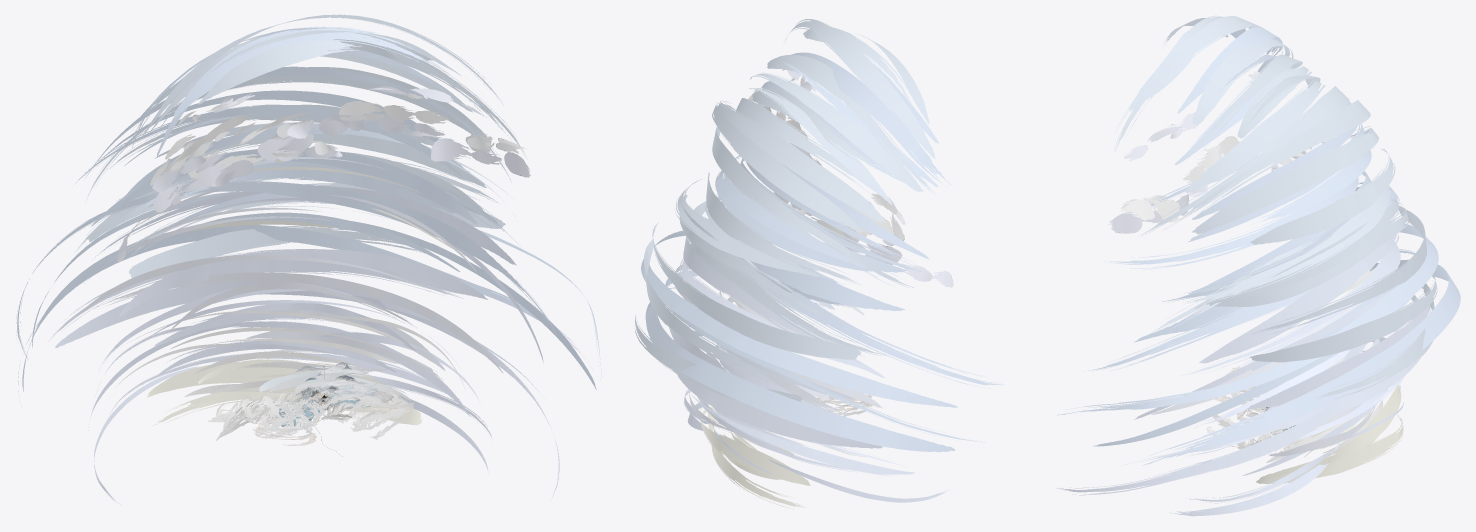
3 views of the same model, side by side, from view 1: azimuth 30°, elevation 25°; view 2: azimuth 150°, elevation 25°; view 3: azimuth 270°, elevation 25° (orthographic). The views are drawn at different scales.
Visible parts, largest first — view 1: brush_Ink_g0_b2_4, brush_Ink_g0_b1_3, brush_ThickPaint_g0_b0_5; view 2: brush_Ink_g0_b2_4, brush_Ink_g0_b1_3, brush_ThickPaint_g0_b0_5; view 3: brush_Ink_g0_b2_4, brush_Ink_g0_b1_3, brush_ThickPaint_g0_b0_5.
Boxes of the visible parts, bbox=[...] form: brush_Ink_g0_b2_4: bbox=[16, 14, 601, 497]; brush_Ink_g0_b1_3: bbox=[88, 283, 493, 504]; brush_ThickPaint_g0_b0_5: bbox=[233, 386, 414, 445]; brush_Ink_g0_b2_4: bbox=[634, 19, 1004, 452]; brush_Ink_g0_b1_3: bbox=[684, 344, 948, 509]; brush_ThickPaint_g0_b0_5: bbox=[816, 395, 874, 416]; brush_Ink_g0_b2_4: bbox=[1057, 15, 1460, 495]; brush_Ink_g0_b1_3: bbox=[1149, 330, 1404, 516]; brush_ThickPaint_g0_b0_5: bbox=[1206, 366, 1295, 452].
Size of the model in its own units: 591 by 571 by 502.
Materials: 4 (4 with a texture image).
